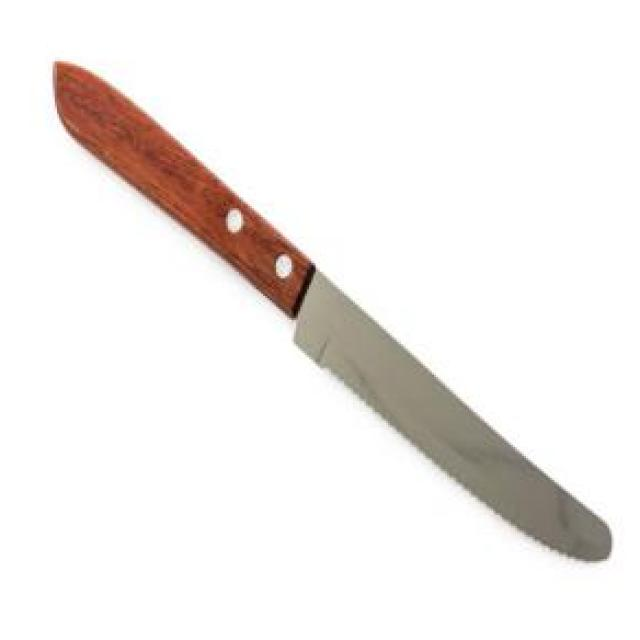knife: (54, 52, 614, 568)
